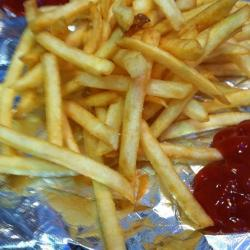fries: (41, 22, 166, 151)
ketchup: (193, 127, 250, 236)
